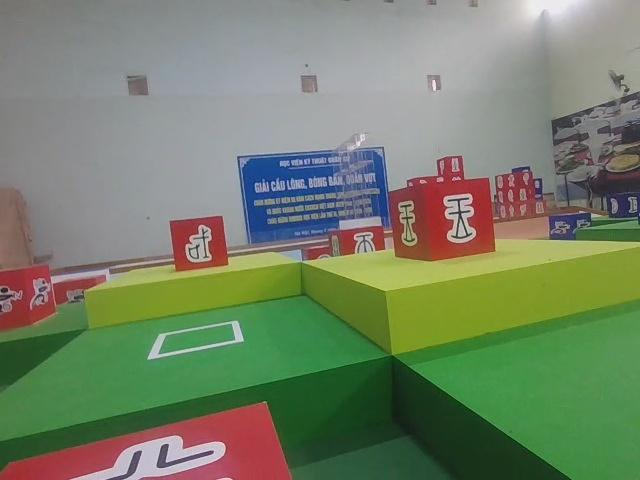R1: (0, 262, 58, 330)
R2 Real: (388, 183, 494, 261), (168, 213, 231, 272)
